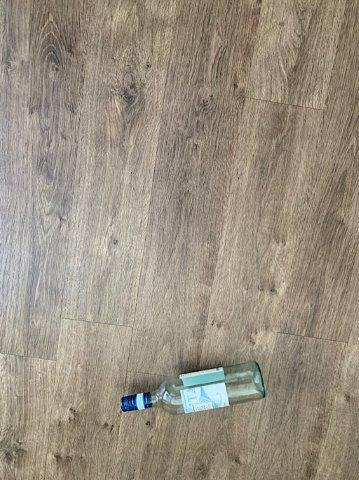botolkaca: (122, 362, 266, 416)
